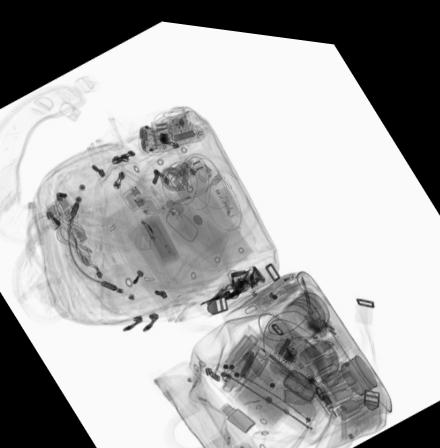Lighter: (270, 262, 298, 280)
